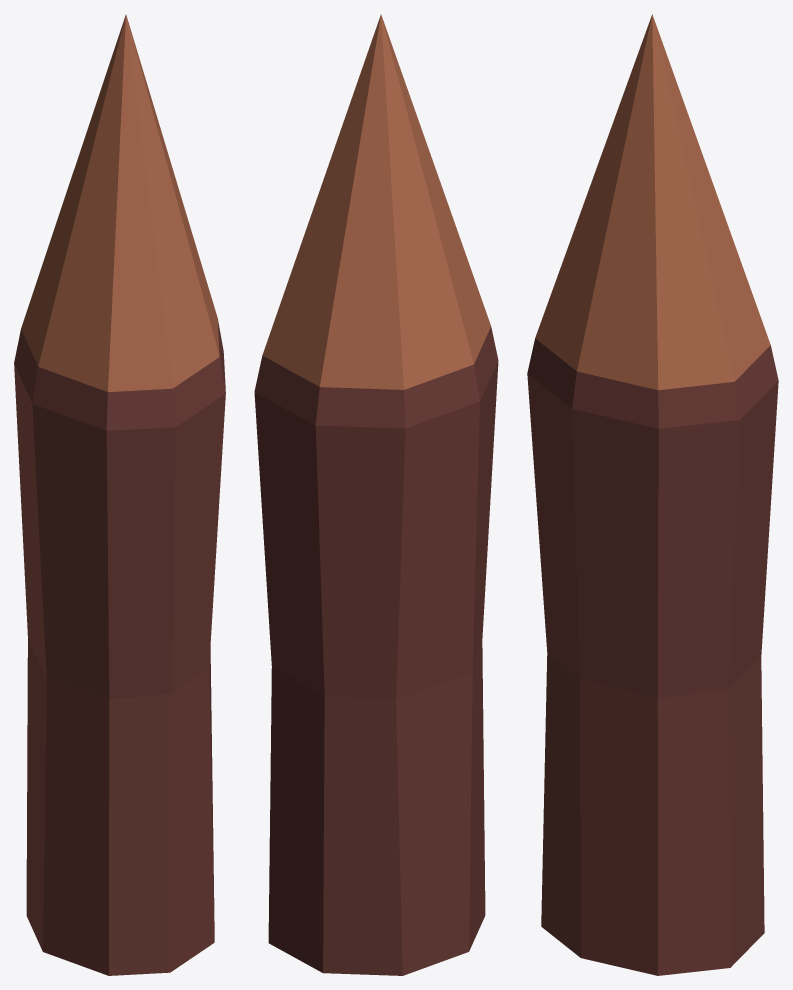
The model's file is Wooden Pole Sharp 06.fbx.
The picture shows the model from 3 angles, left to right: view 1: azimuth 30°, elevation 25°; view 2: azimuth 150°, elevation 25°; view 3: azimuth 270°, elevation 25°; orthographic projection.
Parts seen in each view (by area): view 1: Wooden Pole Sharp 06; view 2: Wooden Pole Sharp 06; view 3: Wooden Pole Sharp 06.
Part boxes in pixels (<box>): Wooden Pole Sharp 06: <box>14,14,225,975</box>; Wooden Pole Sharp 06: <box>254,14,498,975</box>; Wooden Pole Sharp 06: <box>527,14,778,975</box>.
Bounding box in the file's own units: 29.65 × 132 × 32.67.
